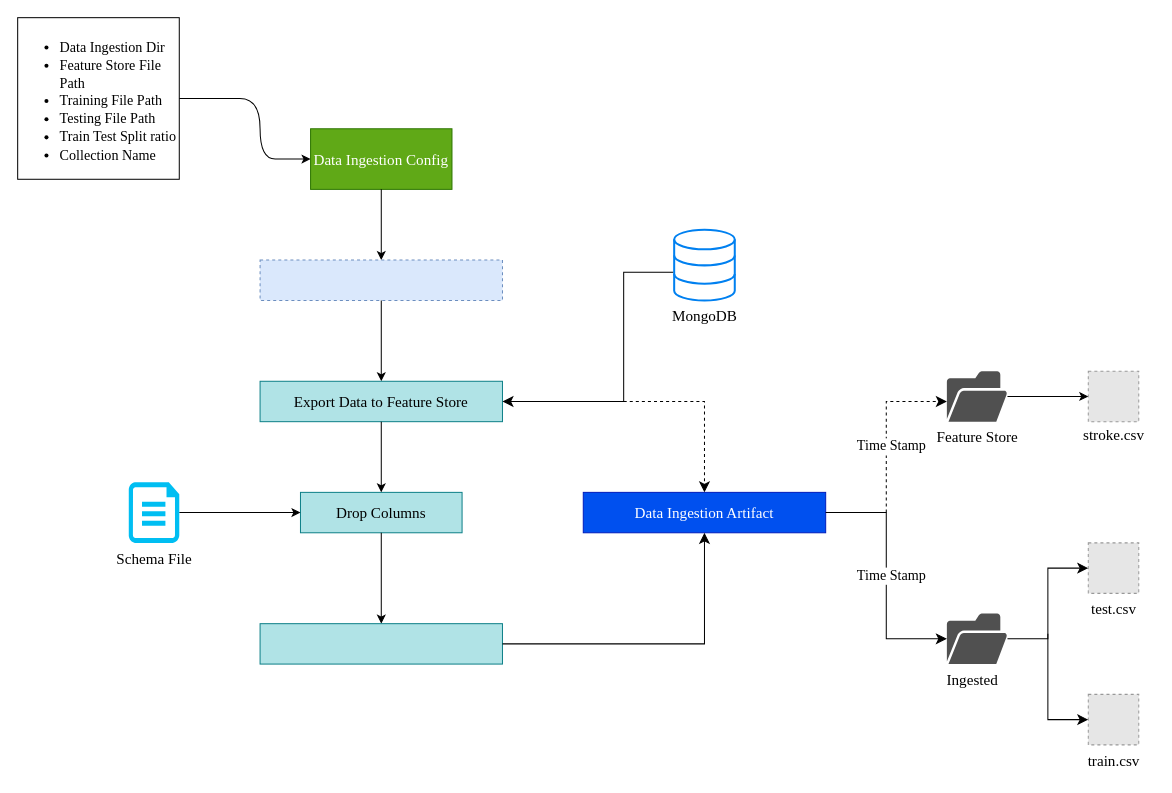
The diagram is 1172 pixels wide and 793 high, and some of its shapes have lost their labels. Grey dashed boxes stand in for pictures. The shapes that lost their labels are listed below. From the top down, each one's box as (x1, y1, x2, y2) in pixels, then its label:
(259, 259, 502, 300): Initiate Data Ingestion
(259, 623, 502, 664): Split Data as train and test
